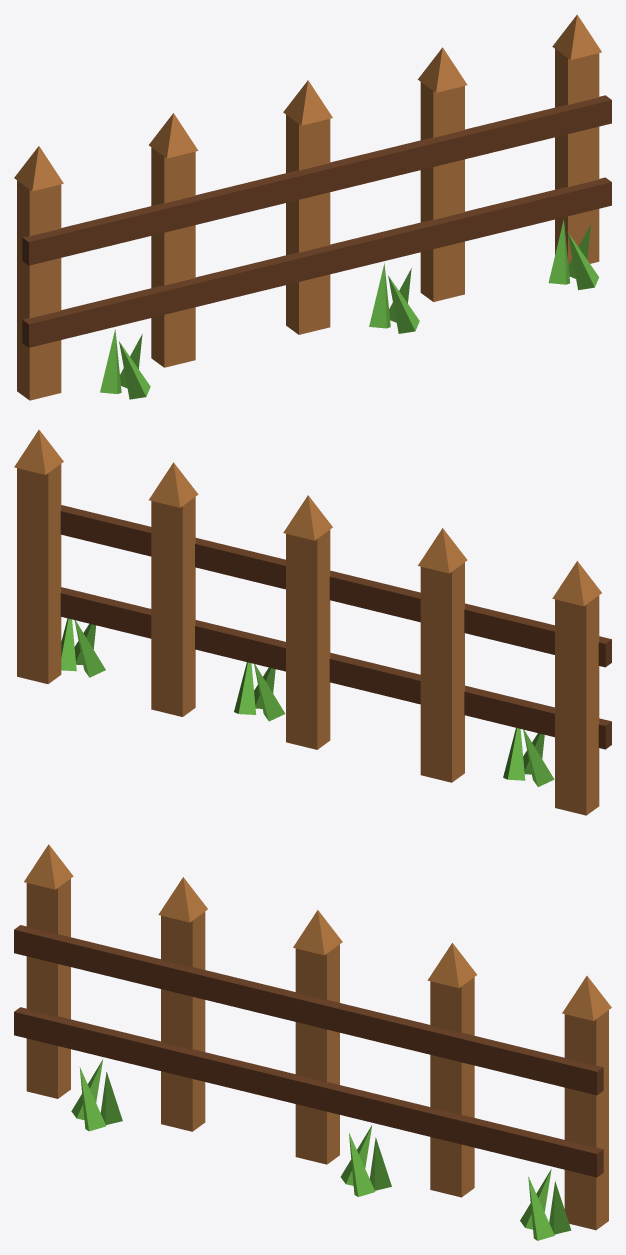
The model's file is Fence.fbx.
3 renders of one model, top to bottom at view 1: azimuth 30°, elevation 25°; view 2: azimuth 150°, elevation 25°; view 3: azimuth 330°, elevation 25°, orthographic.
Visible parts, largest first — view 1: Fence; view 2: Fence; view 3: Fence.
Part boxes in pixels (x1,y1,x2,y2): Fence: (14, 14, 611, 400); Fence: (14, 430, 611, 815); Fence: (14, 844, 611, 1240).
Size of the model in its own units: 7.8 by 3.19 by 0.987.
1 material, 1 textured.
